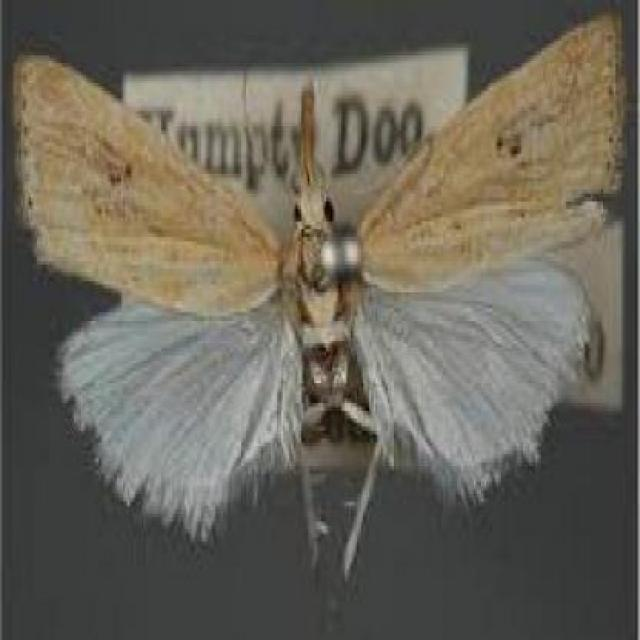stem-borer: (11, 7, 624, 588)
